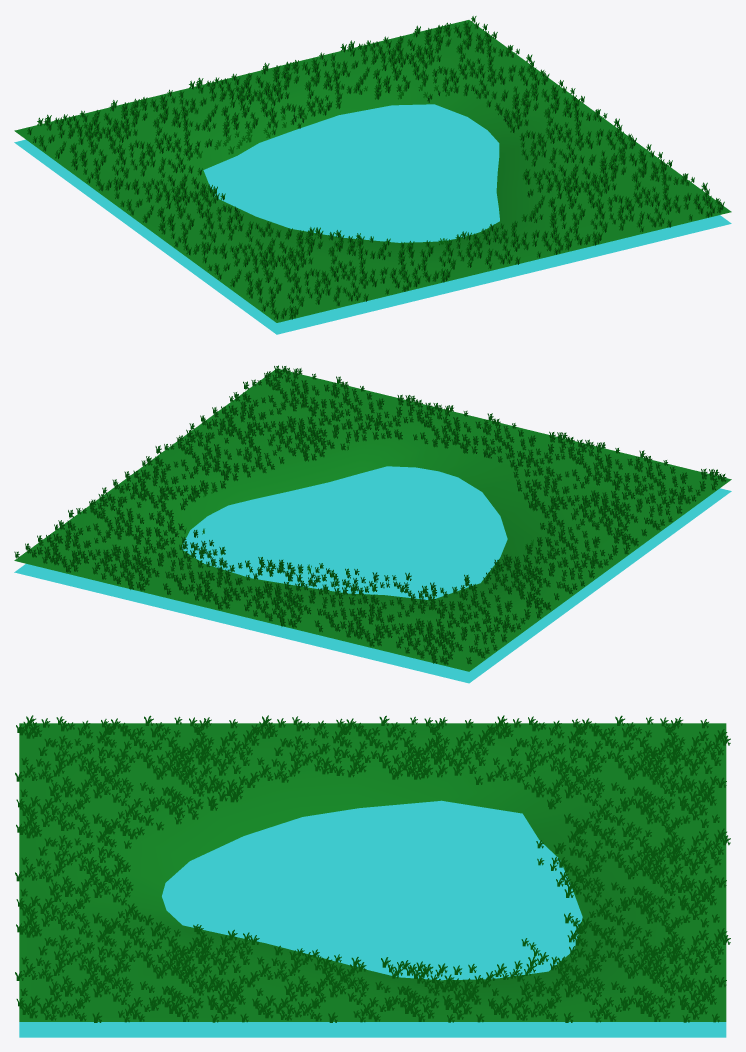
Rendered from Lake.fbx.
3 renders of one model, top to bottom at view 1: azimuth 30°, elevation 25°; view 2: azimuth 150°, elevation 25°; view 3: azimuth 270°, elevation 25°, orthographic. The views are drawn at different scales.
Visible parts, largest first — view 1: Lake; view 2: Lake; view 3: Lake.
Boxes of the visible parts, x1,y1,x2,y2 form: Lake: [14, 16, 731, 334]; Lake: [14, 365, 731, 683]; Lake: [15, 715, 730, 1037].
Size of the model in its own units: 6079 by 367 by 6094.
3 materials, 1 textured.
